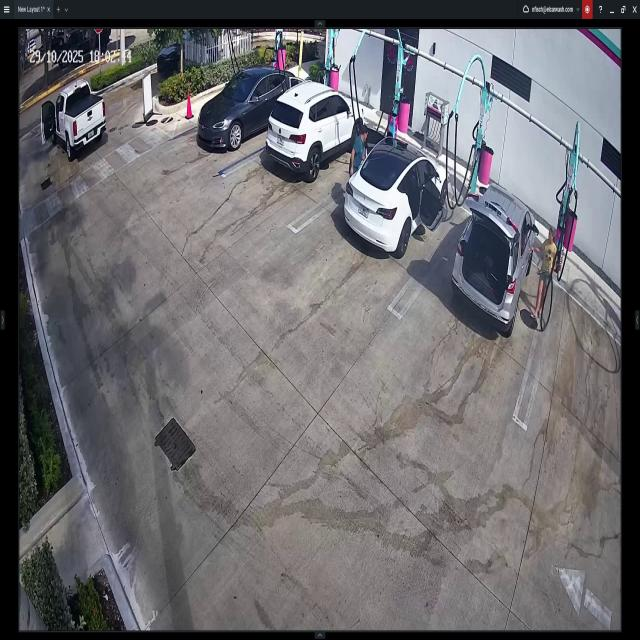Car: (344, 140, 448, 262), (452, 192, 535, 329), (268, 79, 364, 181), (197, 64, 303, 151), (39, 83, 108, 154), (158, 31, 206, 73)
